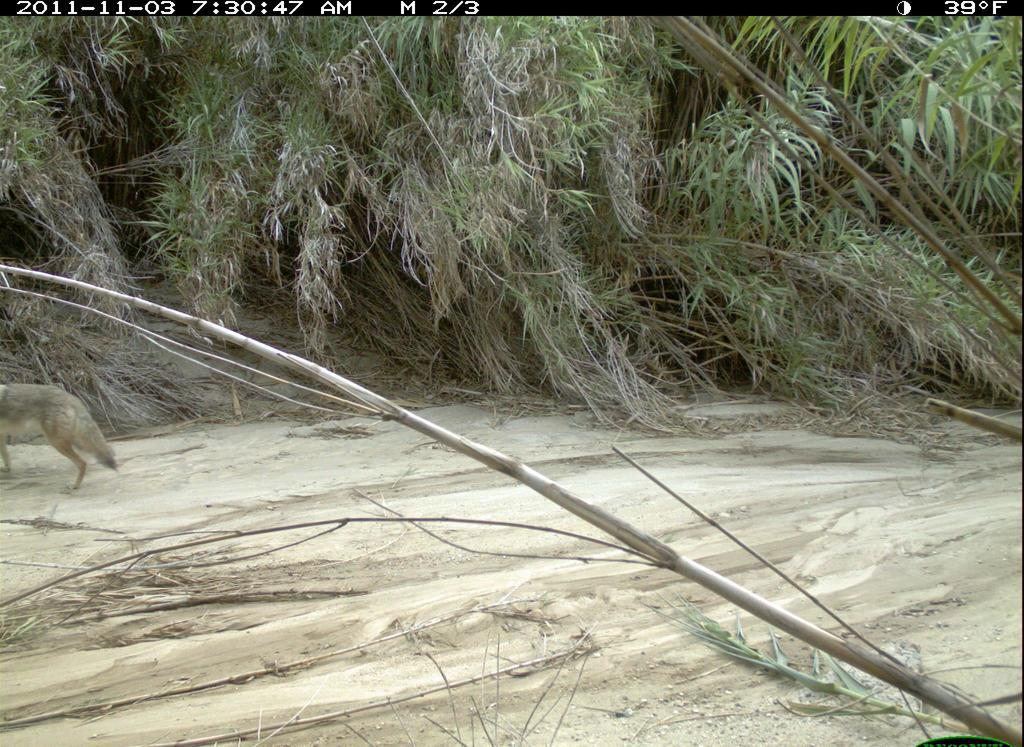coyote: (1, 382, 117, 485)
